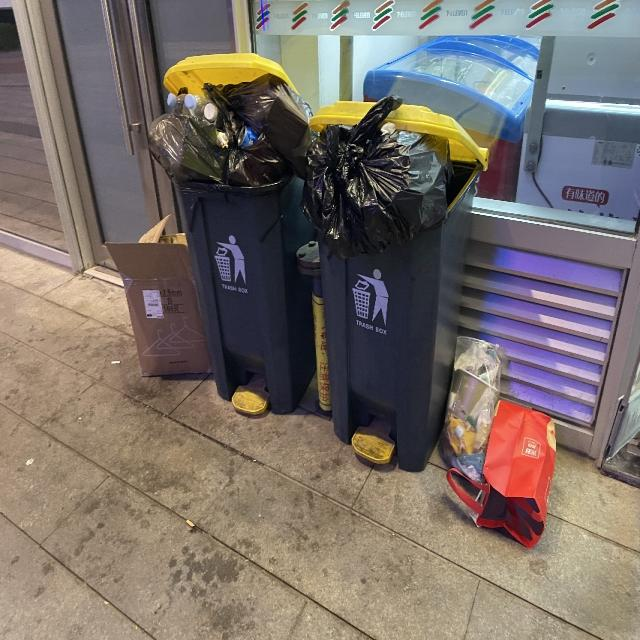garbage: (440, 333, 554, 550), (102, 212, 215, 374)
overflow: (299, 94, 487, 471), (148, 53, 313, 416)
